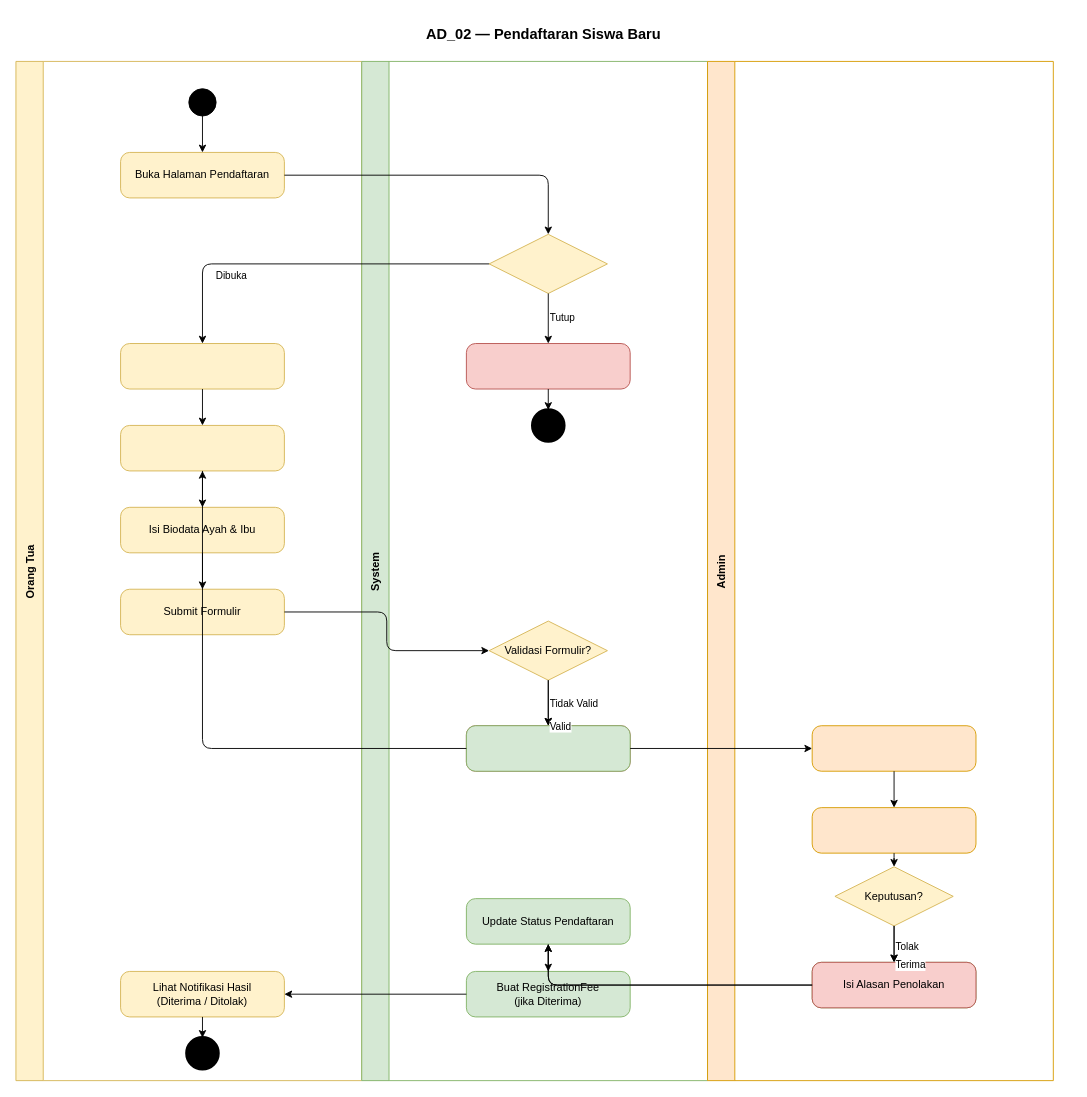
Image size: 1087x1097. Some labels were removed from this diagram. The centre of each missing label's shape, as x and y in pixels:
"Buka Detail Pendaftaran" goes at [893,830].
"Cek Status Pendaftaran" goes at [547,263].
"Isi Biodata Siswa" goes at [202,448].
"Lihat Daftar Pendaftaran Baru" goes at [893,748].
"Pilih Jenis Pendaftaran (TK / Mengaji)" goes at [202,366].
"Simpan Pendaftaran (status: pending)" goes at [547,748].
"Tampil: Pendaftaran Sedang Ditutup" goes at [547,366].
